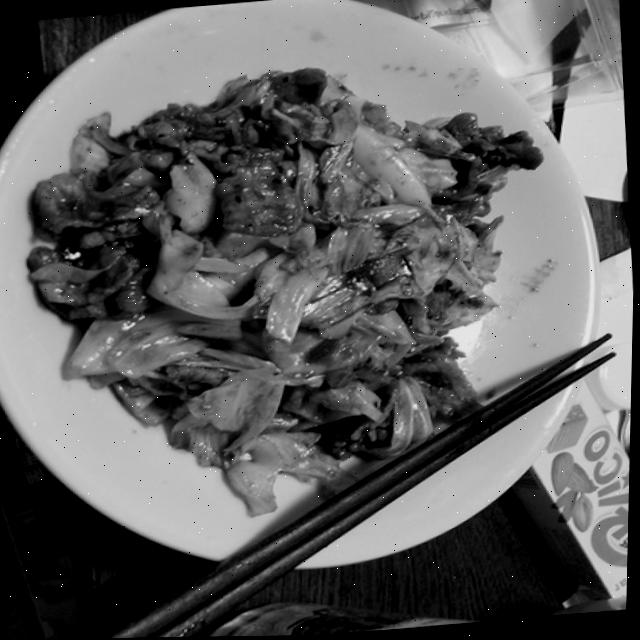猪肉菜式: (31, 67, 592, 553)
